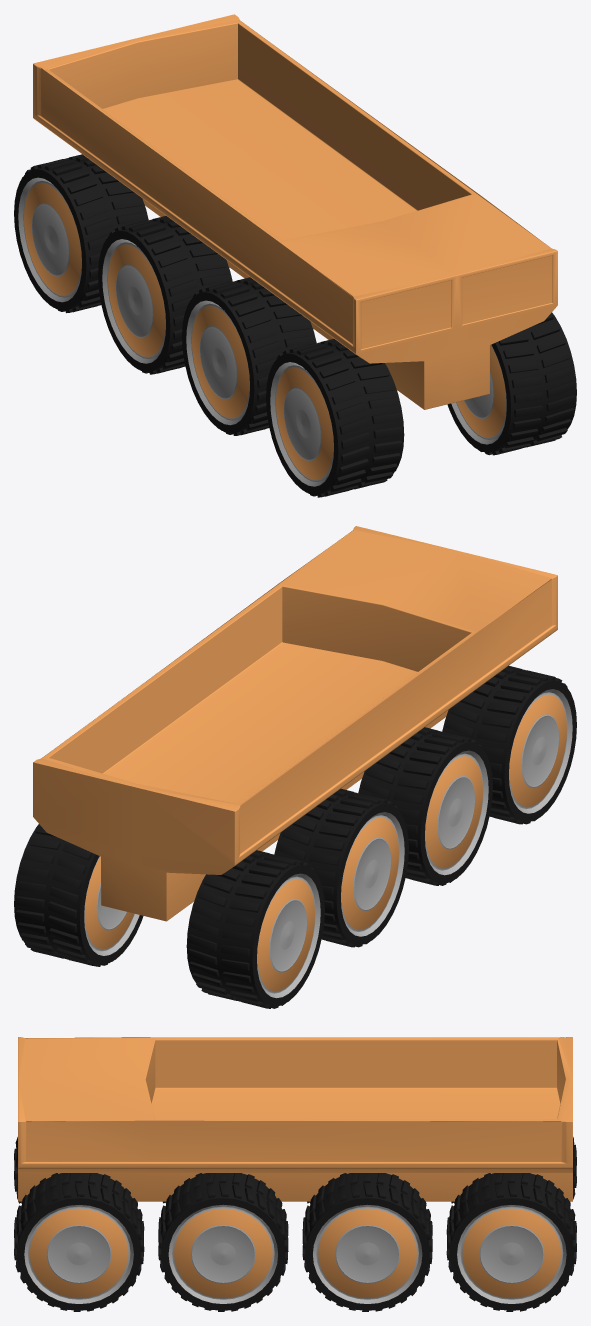
Rendered from ResourceTransporter.glb.
3 views of the same model, one above another, from view 1: azimuth 30°, elevation 25°; view 2: azimuth 150°, elevation 25°; view 3: azimuth 270°, elevation 25° (orthographic). The views are drawn at different scales.
Visible parts, largest first — view 1: Vehicle; view 2: Vehicle; view 3: Vehicle.
Boxes of the visible parts, left/top/right/bottom form: Vehicle: left=14, top=14, right=576, bottom=497; Vehicle: left=14, top=526, right=576, bottom=1008; Vehicle: left=14, top=1037, right=576, bottom=1311.
Size of the model in its own units: 5.26 by 4.51 by 12.49.
